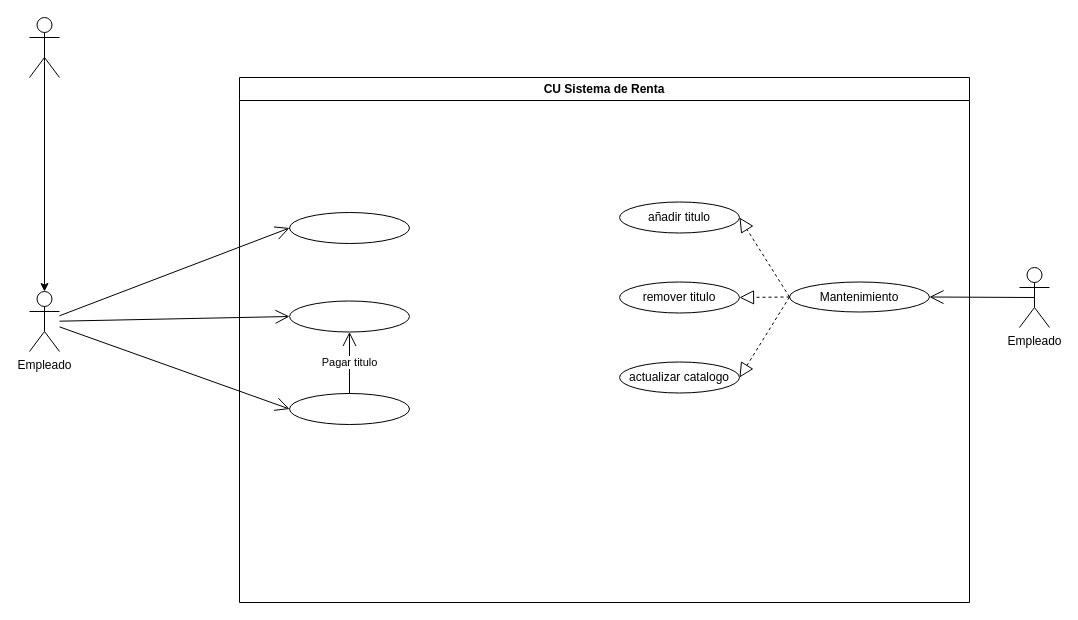
Image size: 1078x620. Some labels were removed from this diagram. Each missing label, with the centre of its shape:
Cliente: (44,47)
Devolución de titulo: (349,316)
Disponibilidad del titulo: (349,228)
Préstamo de titulo: (349,408)
